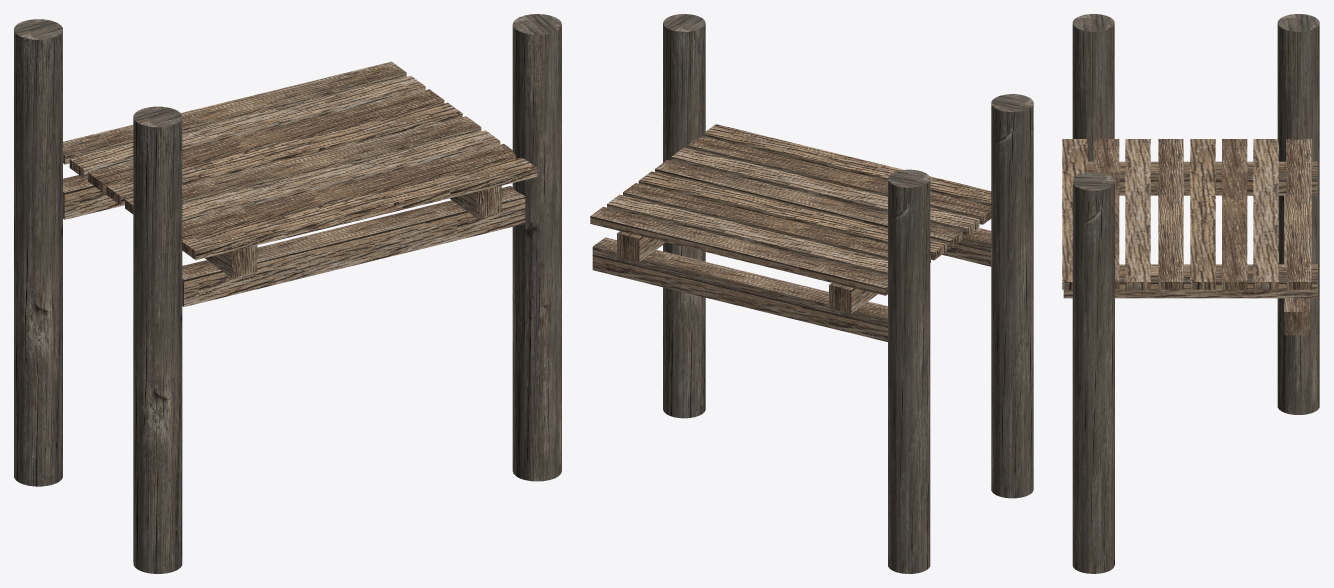
File: Plataforma.fbx
The picture shows the model from 3 angles, left to right: view 1: azimuth 30°, elevation 25°; view 2: azimuth 150°, elevation 25°; view 3: azimuth 270°, elevation 25°; orthographic projection. The views are drawn at different scales.
Parts seen in each view (by area): view 1: Plataforma; view 2: Plataforma; view 3: Plataforma.
Boxes of the visible parts, box(x1,y1,x2,y2) form: Plataforma: box(14, 14, 561, 573); Plataforma: box(590, 14, 1033, 573); Plataforma: box(1062, 14, 1319, 573).
Bounding box in the file's own units: 494 × 500 × 304.
Materials: 2 (2 with a texture image).
